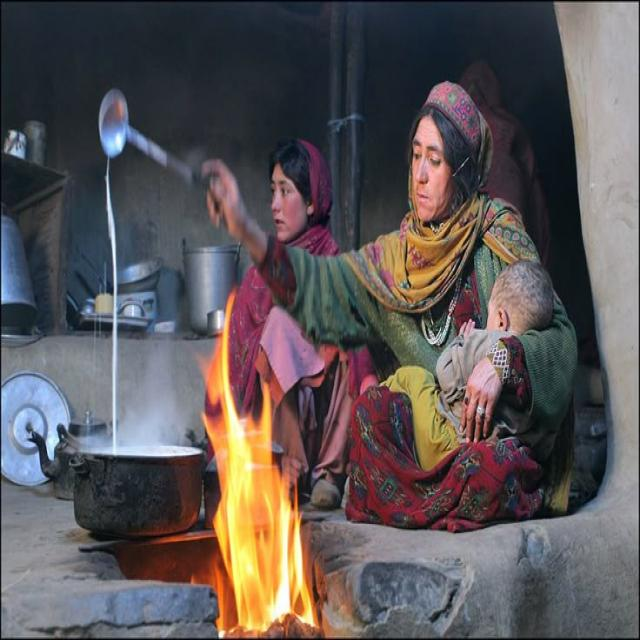fire: (200, 287, 318, 630)
